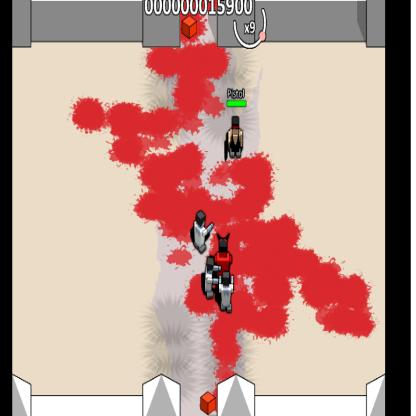agent: (226, 116, 245, 160)
boss: (215, 236, 232, 277)
jombie: (193, 208, 208, 255), (218, 271, 234, 314), (204, 257, 217, 297)
